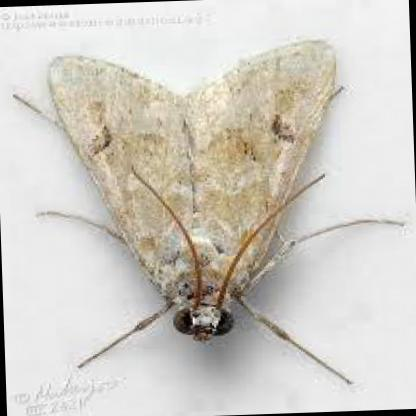Hellula undalis: (3, 38, 412, 387)
